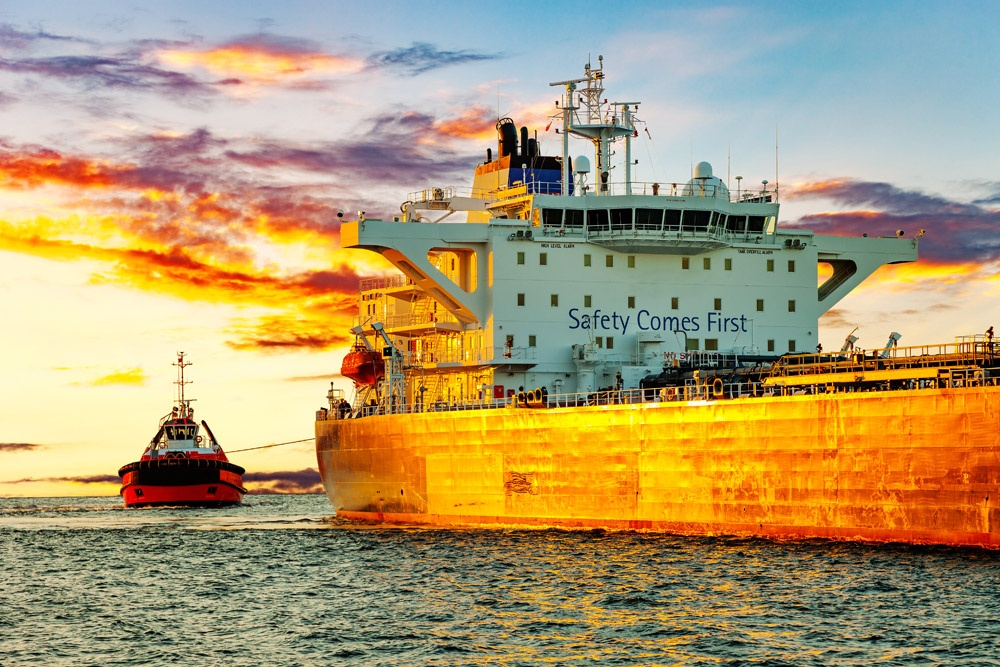Cargoship: (296, 56, 1000, 551)
otherboat: (120, 362, 243, 509)
